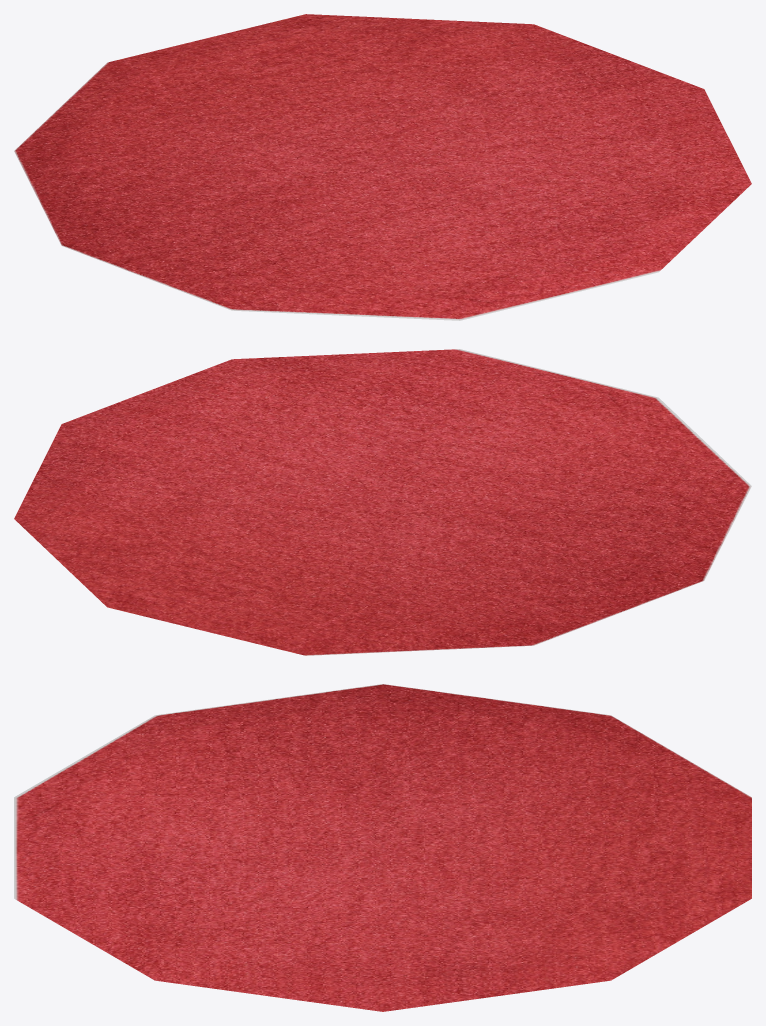
The model's file is big_rug.fbx.
The picture shows the model from 3 angles, top to bottom: view 1: azimuth 30°, elevation 25°; view 2: azimuth 150°, elevation 25°; view 3: azimuth 270°, elevation 25°; orthographic projection. The views are drawn at different scales.
Parts seen in each view (by area): view 1: Cone001; view 2: Cone001; view 3: Cone001.
Part boxes in pixels (x1,y1,x2,y2): Cone001: (14,14,751,320); Cone001: (14,349,751,655); Cone001: (14,684,751,1011).
Bounding box in the file's own units: 41 × 0.18 × 38.99.
